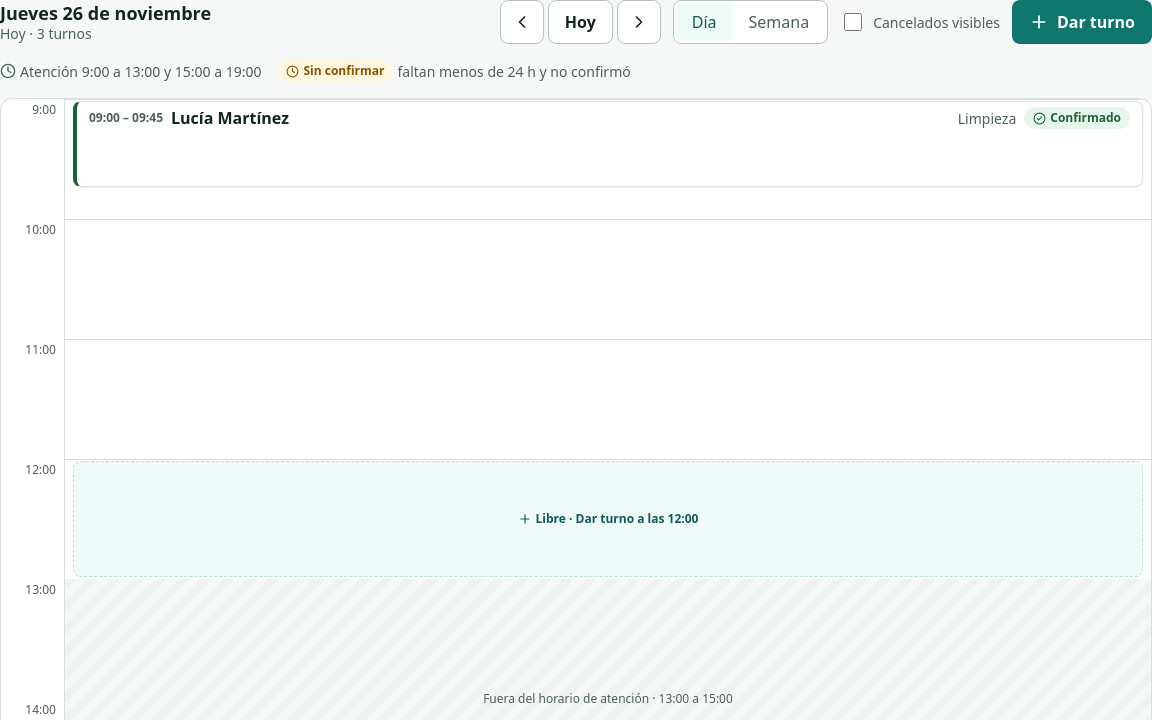
Scenario: vista dia › navega por dia y por semana, y lo deja en la URL
expect the element "Día Semana" is shown: met, box [673,0,828,44]
Click the button named "Día siguiente".
click(639, 22)  # box [617,0,661,44]
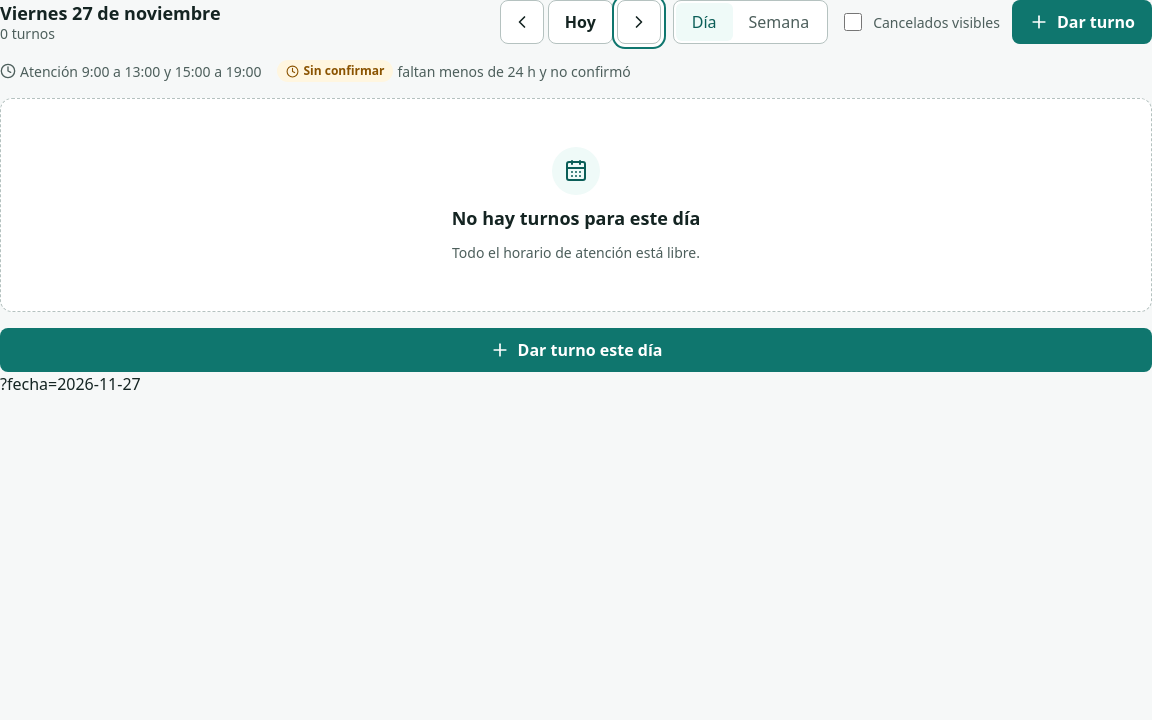
expect the text with test id "ubicacion" shows "fecha=2026-11-27": met, box [0,372,141,394]
expect the heading "Viernes 27 de noviembre" is shown: met, box [0,2,221,24]
Click the button "Semana".
click(779, 22)  # box [733,3,825,41]
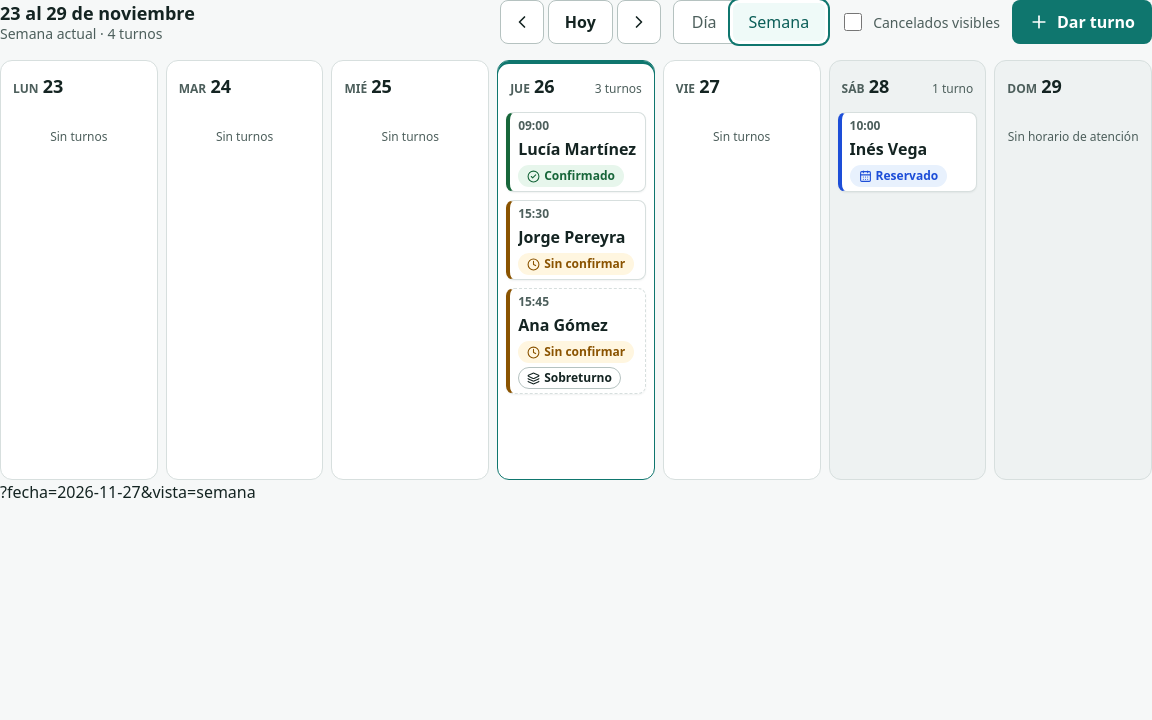
expect the text with test id "ubicacion" shows "vista=semana": met, box [0,481,256,503]
